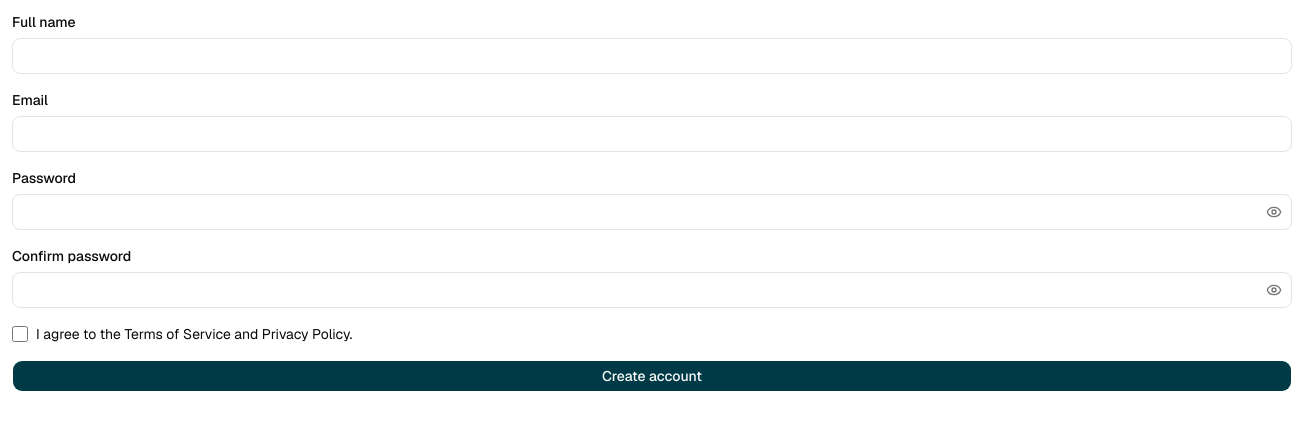
RegisterForm › blocks submission when passwords don't match
The image size is (1304, 430).
Type "Ama Boateng" into the field labelled "Full name" at point(652, 56), box x1=12 y1=38 x2=1292 y2=74
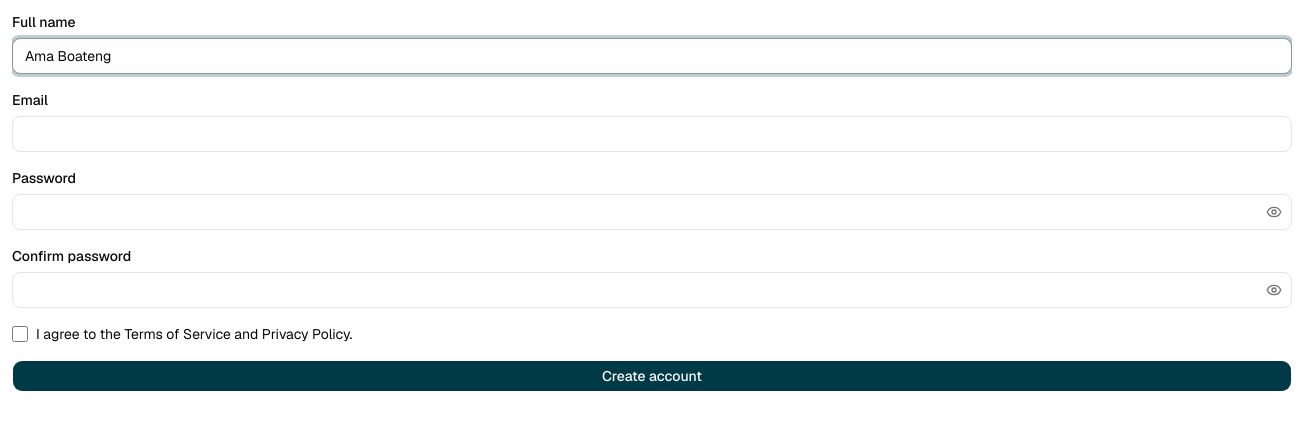
Type "ama@example.com" into the field labelled "Email" at point(652, 134), box x1=12 y1=116 x2=1292 y2=152
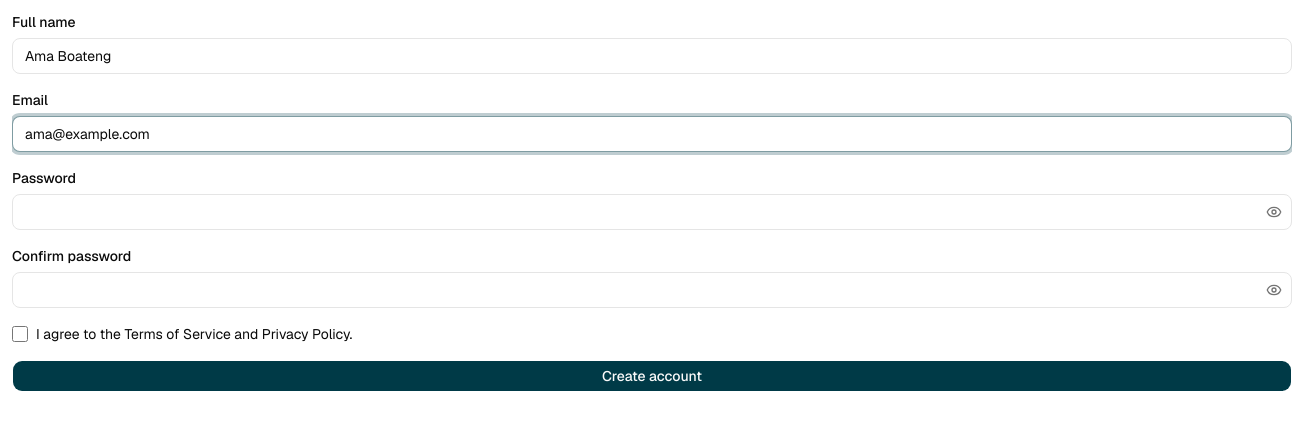
Type "Password123" into the password field labelled "Password" at point(652, 212), box x1=12 y1=194 x2=1292 y2=230
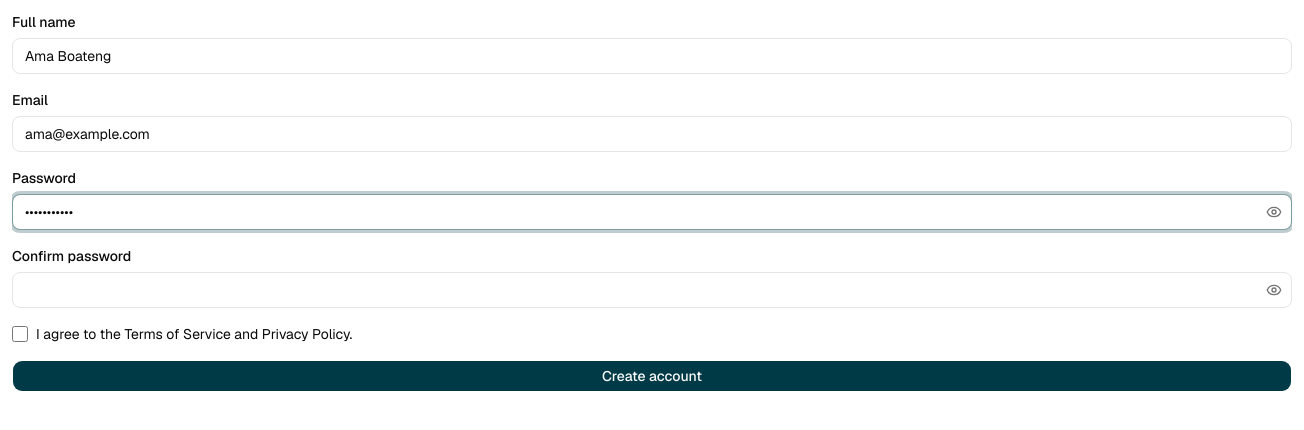
Type "Different123" into the password field labelled "Confirm password" at point(652, 290), box x1=12 y1=272 x2=1292 y2=308
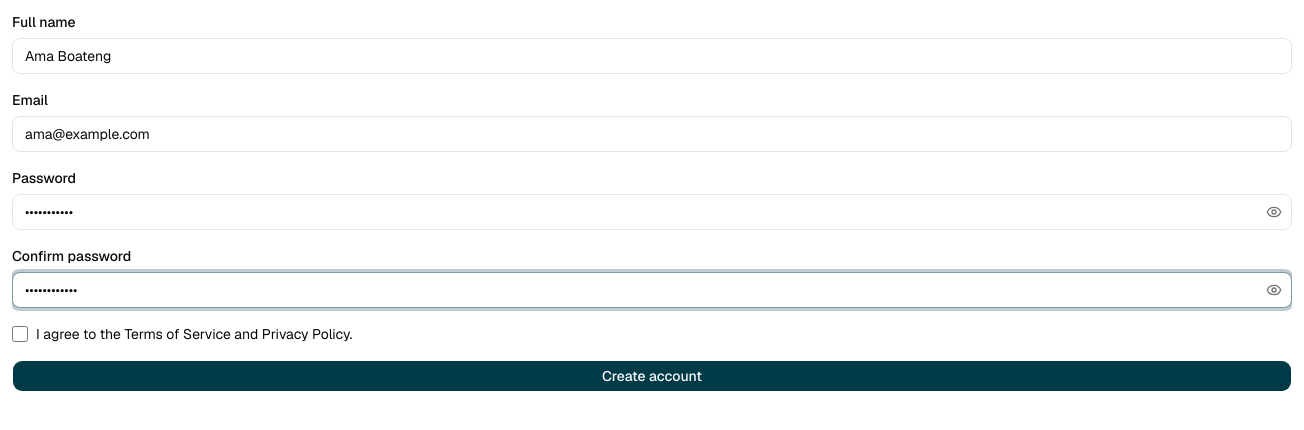
Click the checkbox labelled "I agree to the Terms of Service and Privacy Policy." at point(20, 334), box x1=12 y1=326 x2=28 y2=342
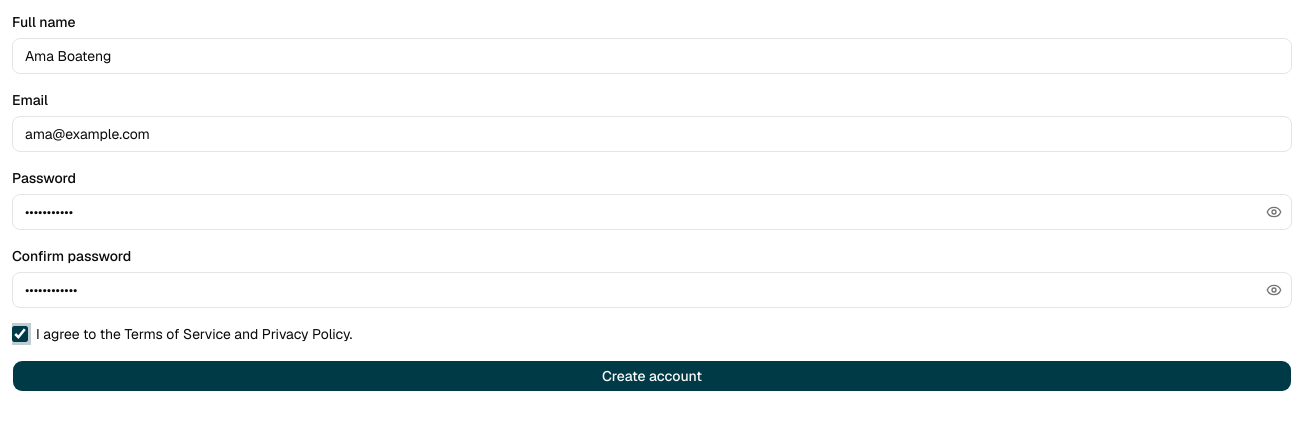
Click the button "Create account" at point(652, 376), box x1=12 y1=360 x2=1292 y2=392
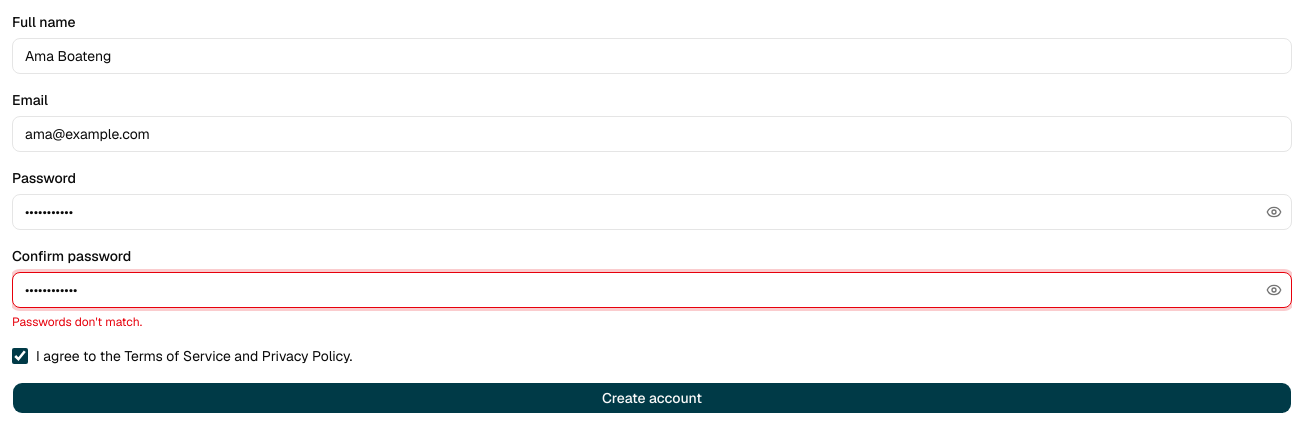
Now the text "Passwords don't match." is shown, box x1=12 y1=314 x2=142 y2=330
